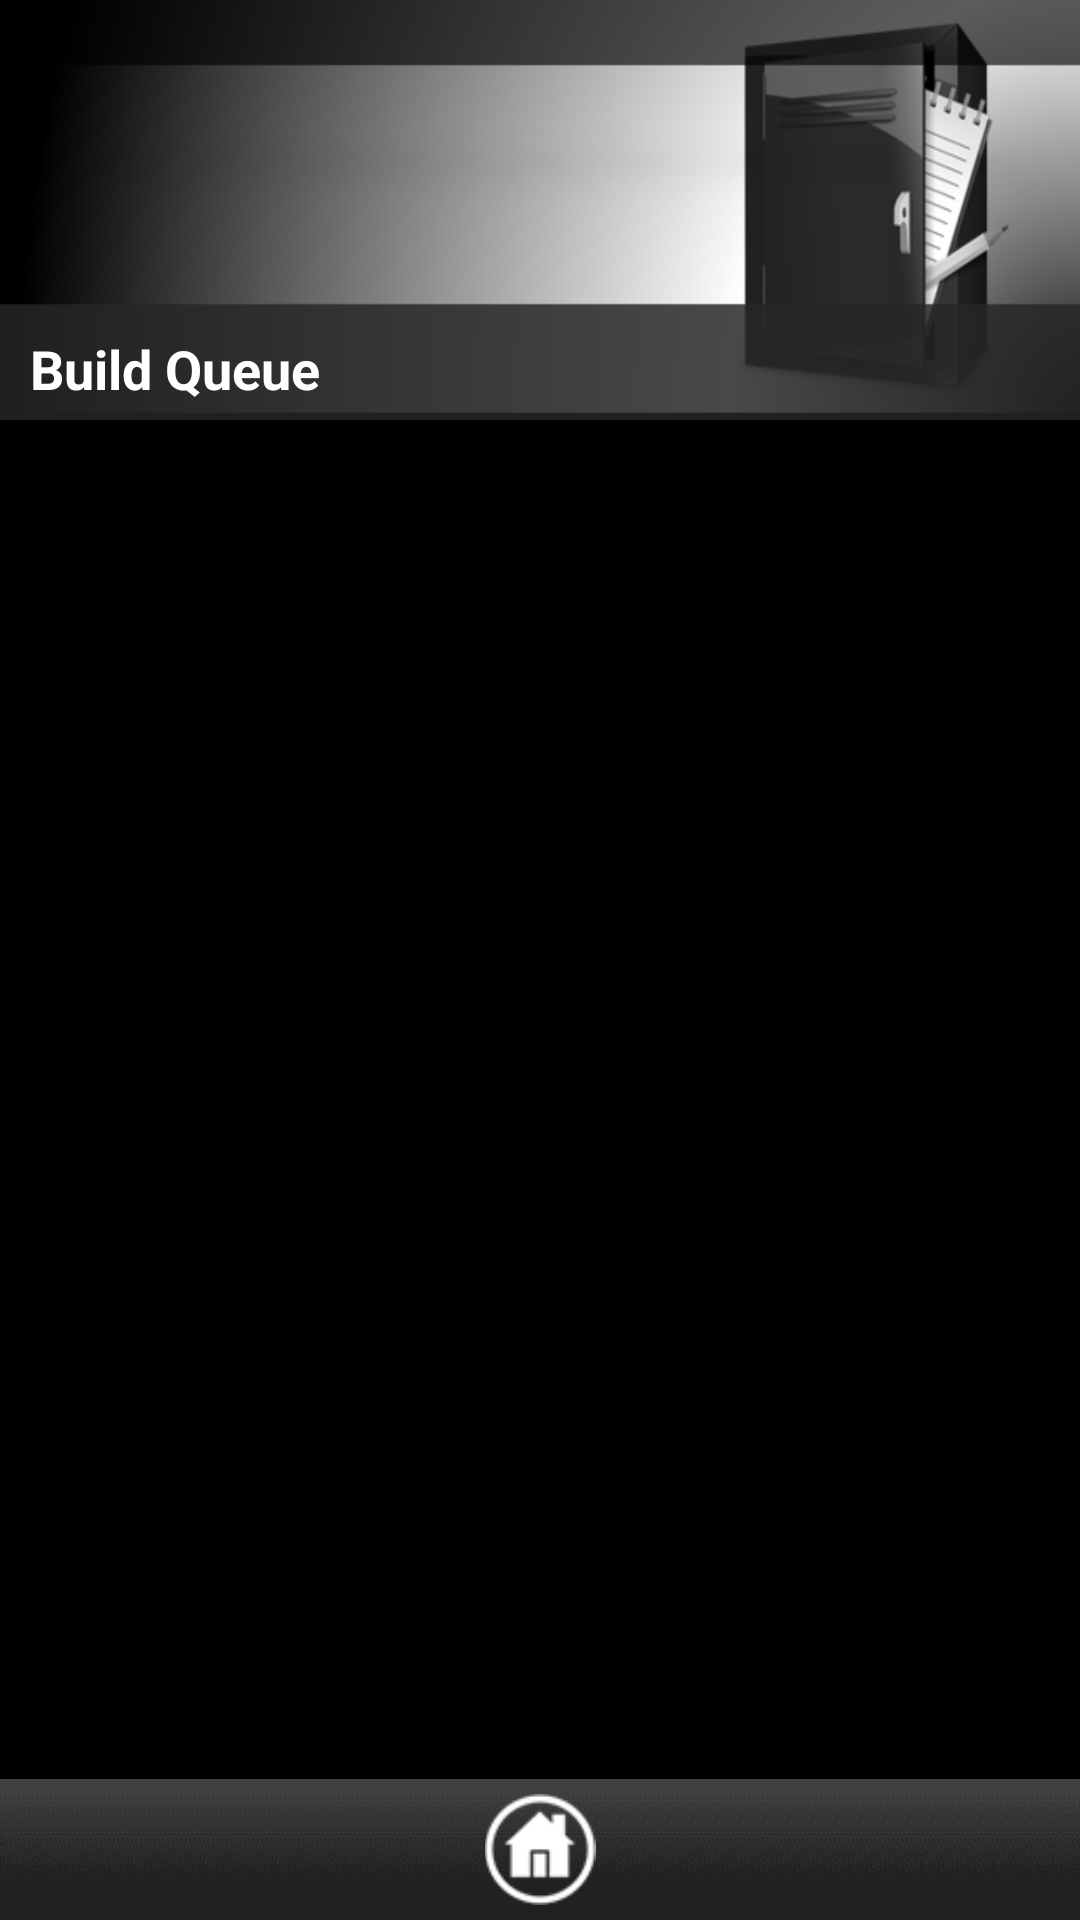

Icon click points for this 1080×1920 phone screenshot, format (x,y):
homeicon: (540,1849)
